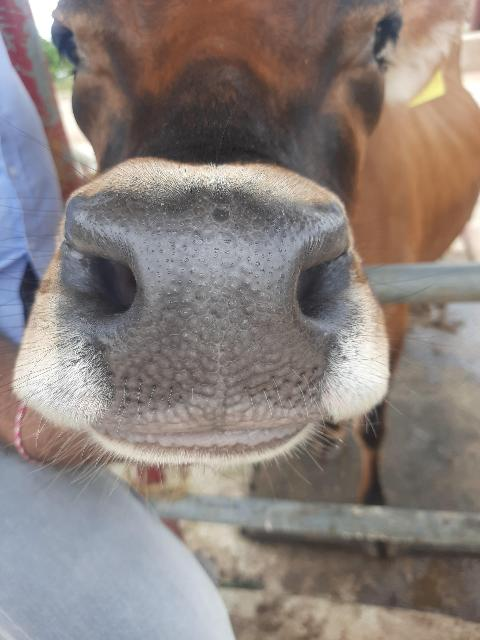Muzzle: (85, 198, 321, 430)
